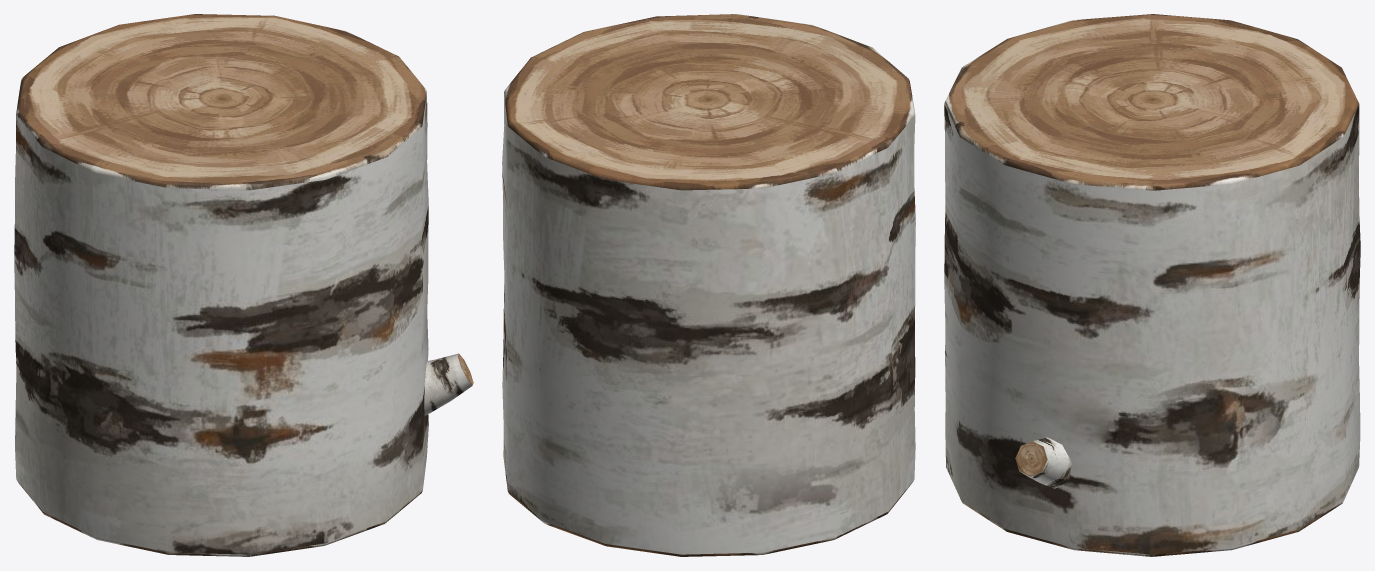
Rendered from birch_log_02.fbx.
3 views of the same model, side by side, from view 1: azimuth 30°, elevation 25°; view 2: azimuth 150°, elevation 25°; view 3: azimuth 270°, elevation 25° (orthographic).
Visible parts, largest first — view 1: SM_Log_002; view 2: SM_Log_002; view 3: SM_Log_002.
Part boxes in pixels (x1,y1,x2,y2): SM_Log_002: [14, 14, 473, 556]; SM_Log_002: [502, 14, 915, 556]; SM_Log_002: [944, 14, 1360, 556].
Bounding box in the file's own units: 2.71 × 2.59 × 2.63.
2 materials, 2 textured.
